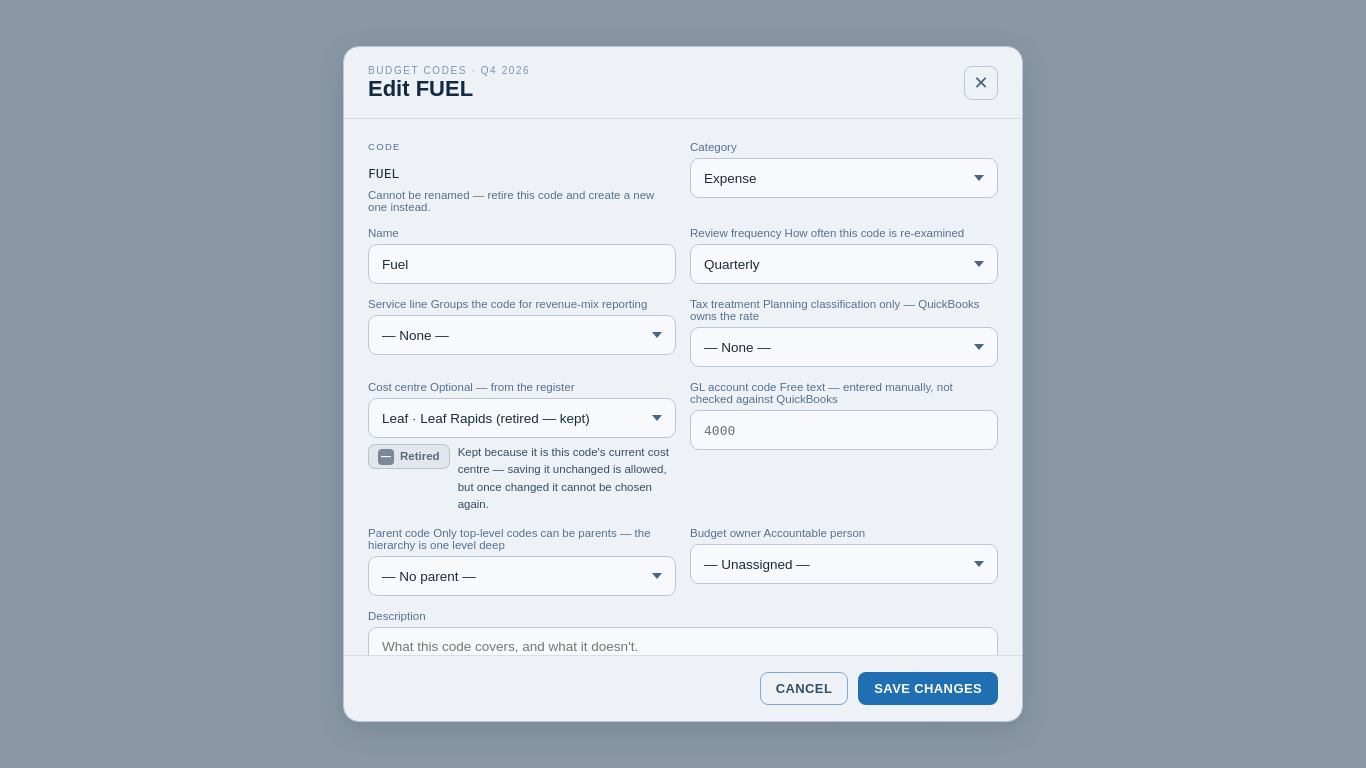
Test: BudgetCodeFormModal — cost-centre picker › drops the marker once an active entry is chosen instead
The image size is (1366, 768).
Select "Thompson · Thompson base" in the dropdown below "Optional — from the register" at (522, 418), box [368,398,676,438]
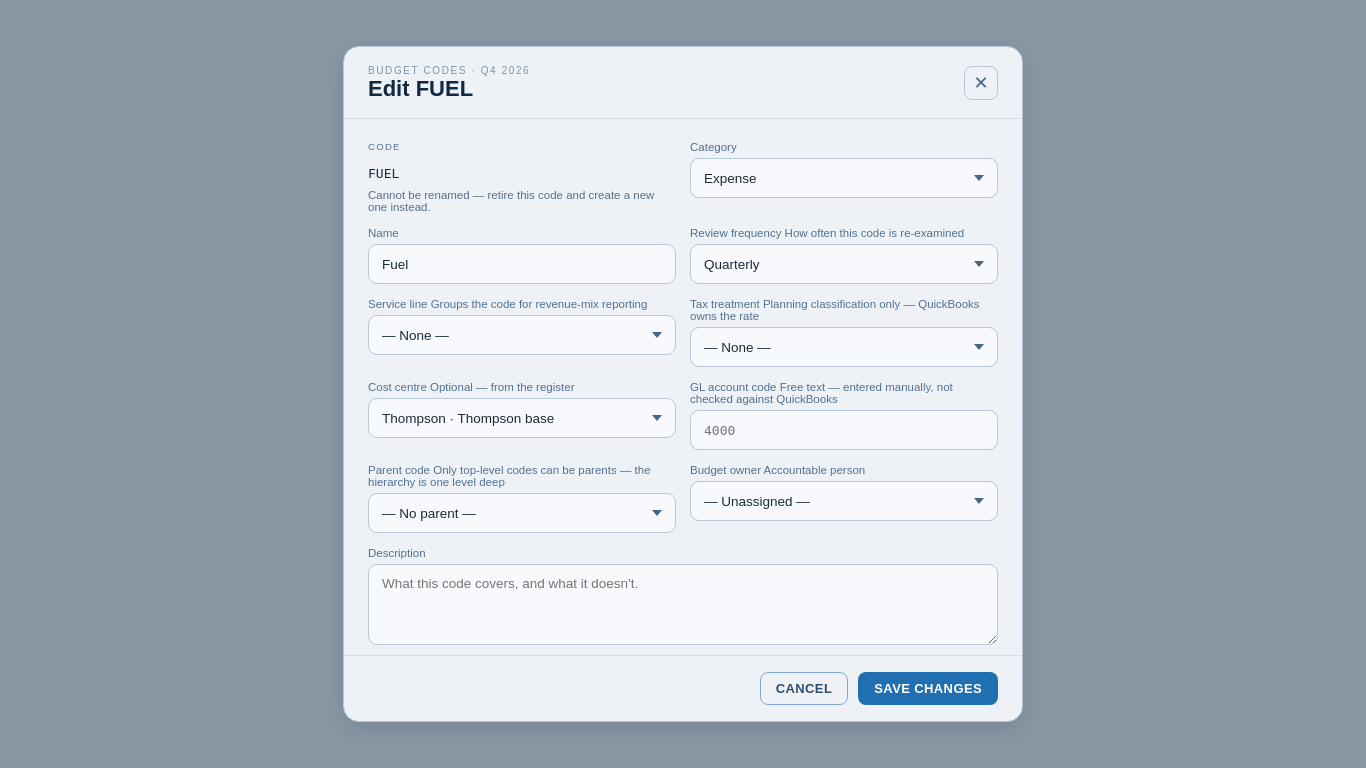
expect the element with test id "cost-centre-kept" is gone: met
